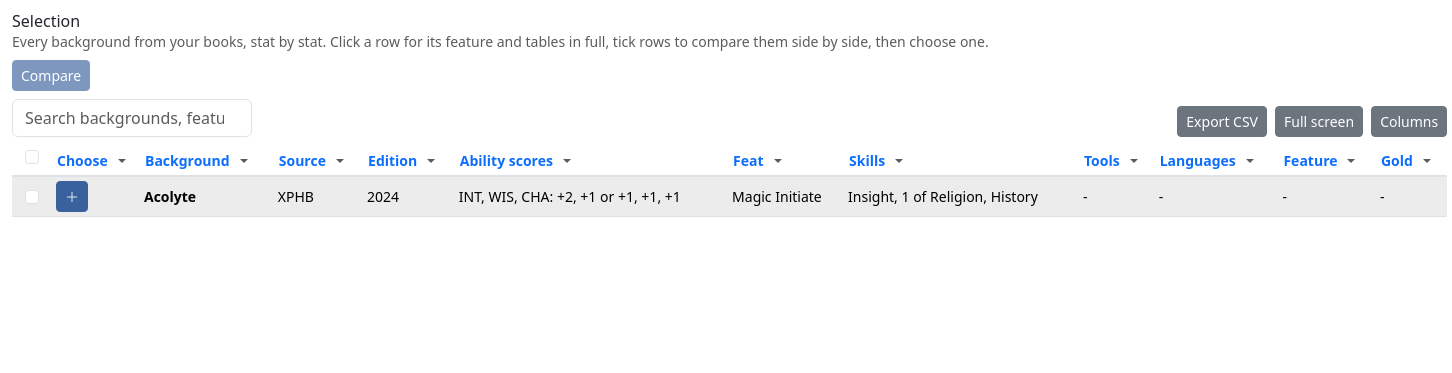
Scenario: BackgroundSelection › trips the edition-mix badge from a race ability choice
Check: the table named "Background reference" is shown, box [12,145,1447,217]
Step 1. Click the button named "Choose" → click(72, 197), box [56,181,88,212]
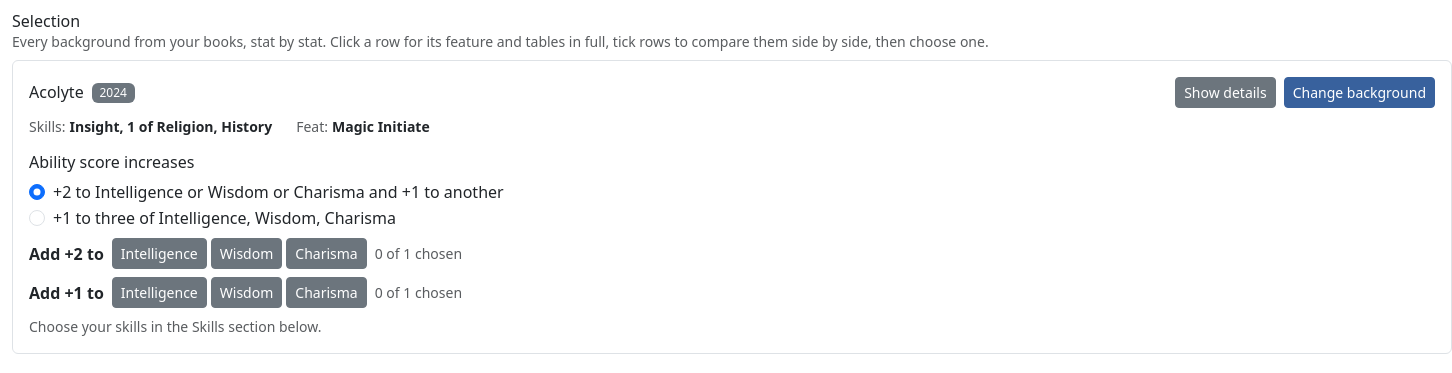
Step 2. Click the 1st button "Wisdom" → click(247, 254), box [211,238,282,269]
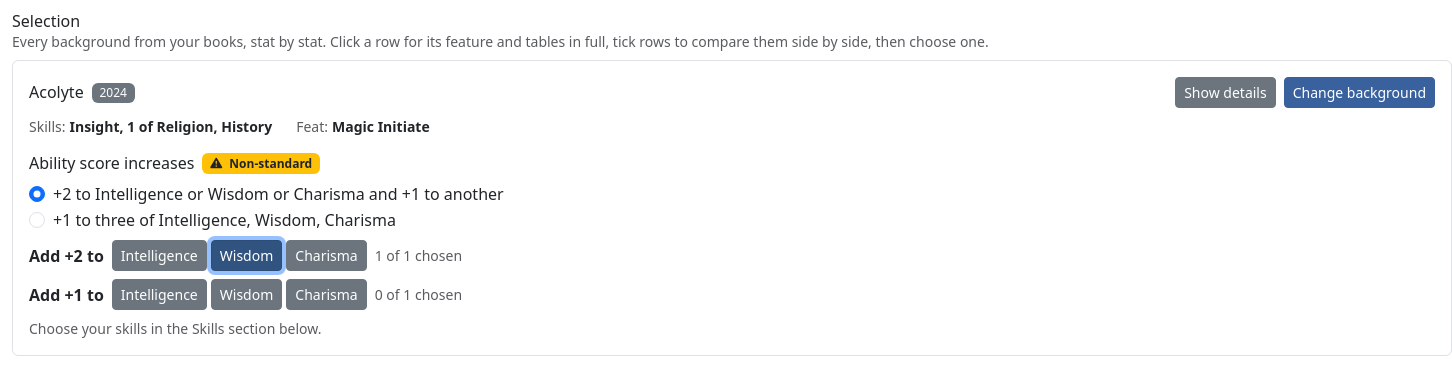
Check: the element showing "Non-standard" is shown, box [202,153,320,174]
